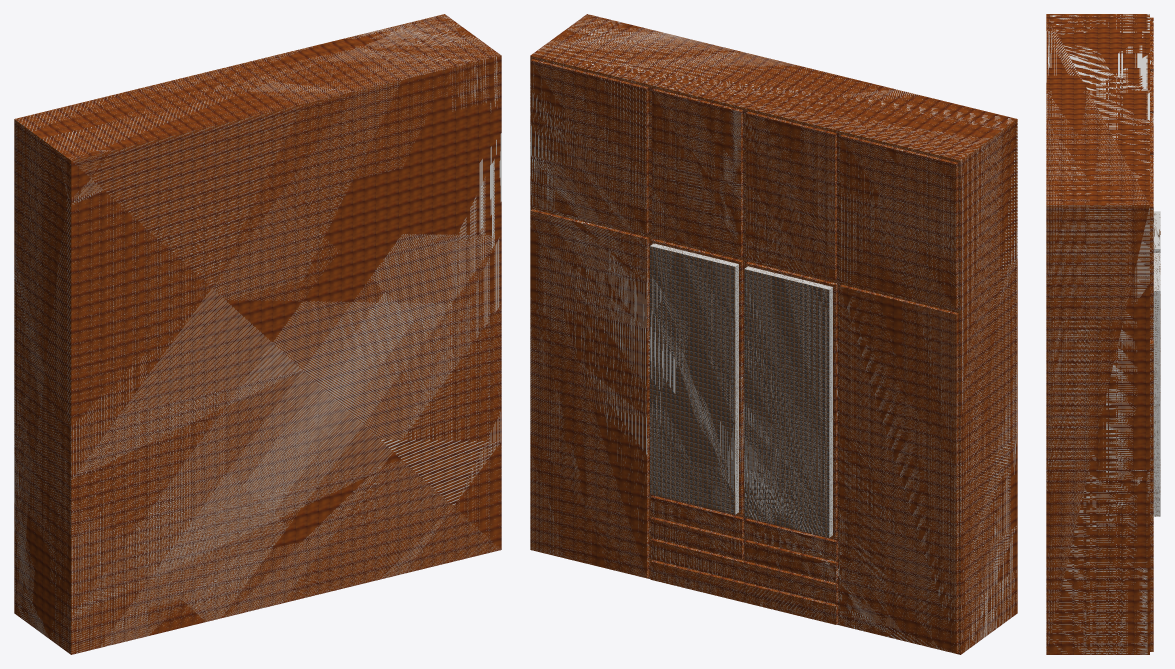
3 views of the same model, side by side, from view 1: azimuth 30°, elevation 25°; view 2: azimuth 150°, elevation 25°; view 3: azimuth 270°, elevation 25° (orthographic). The views are drawn at different scales.
Parts seen in each view (by area): view 1: mesh1_mesh1-geometry; view 2: mesh1_mesh1-geometry; view 3: mesh1_mesh1-geometry.
Part boxes in pixels (bbox=[...]): mesh1_mesh1-geometry: bbox=[14, 14, 501, 654]; mesh1_mesh1-geometry: bbox=[530, 14, 1017, 654]; mesh1_mesh1-geometry: bbox=[1046, 14, 1160, 654].
Size of the model in its own units: 0.6641 by 0.7286 by 0.1676.
